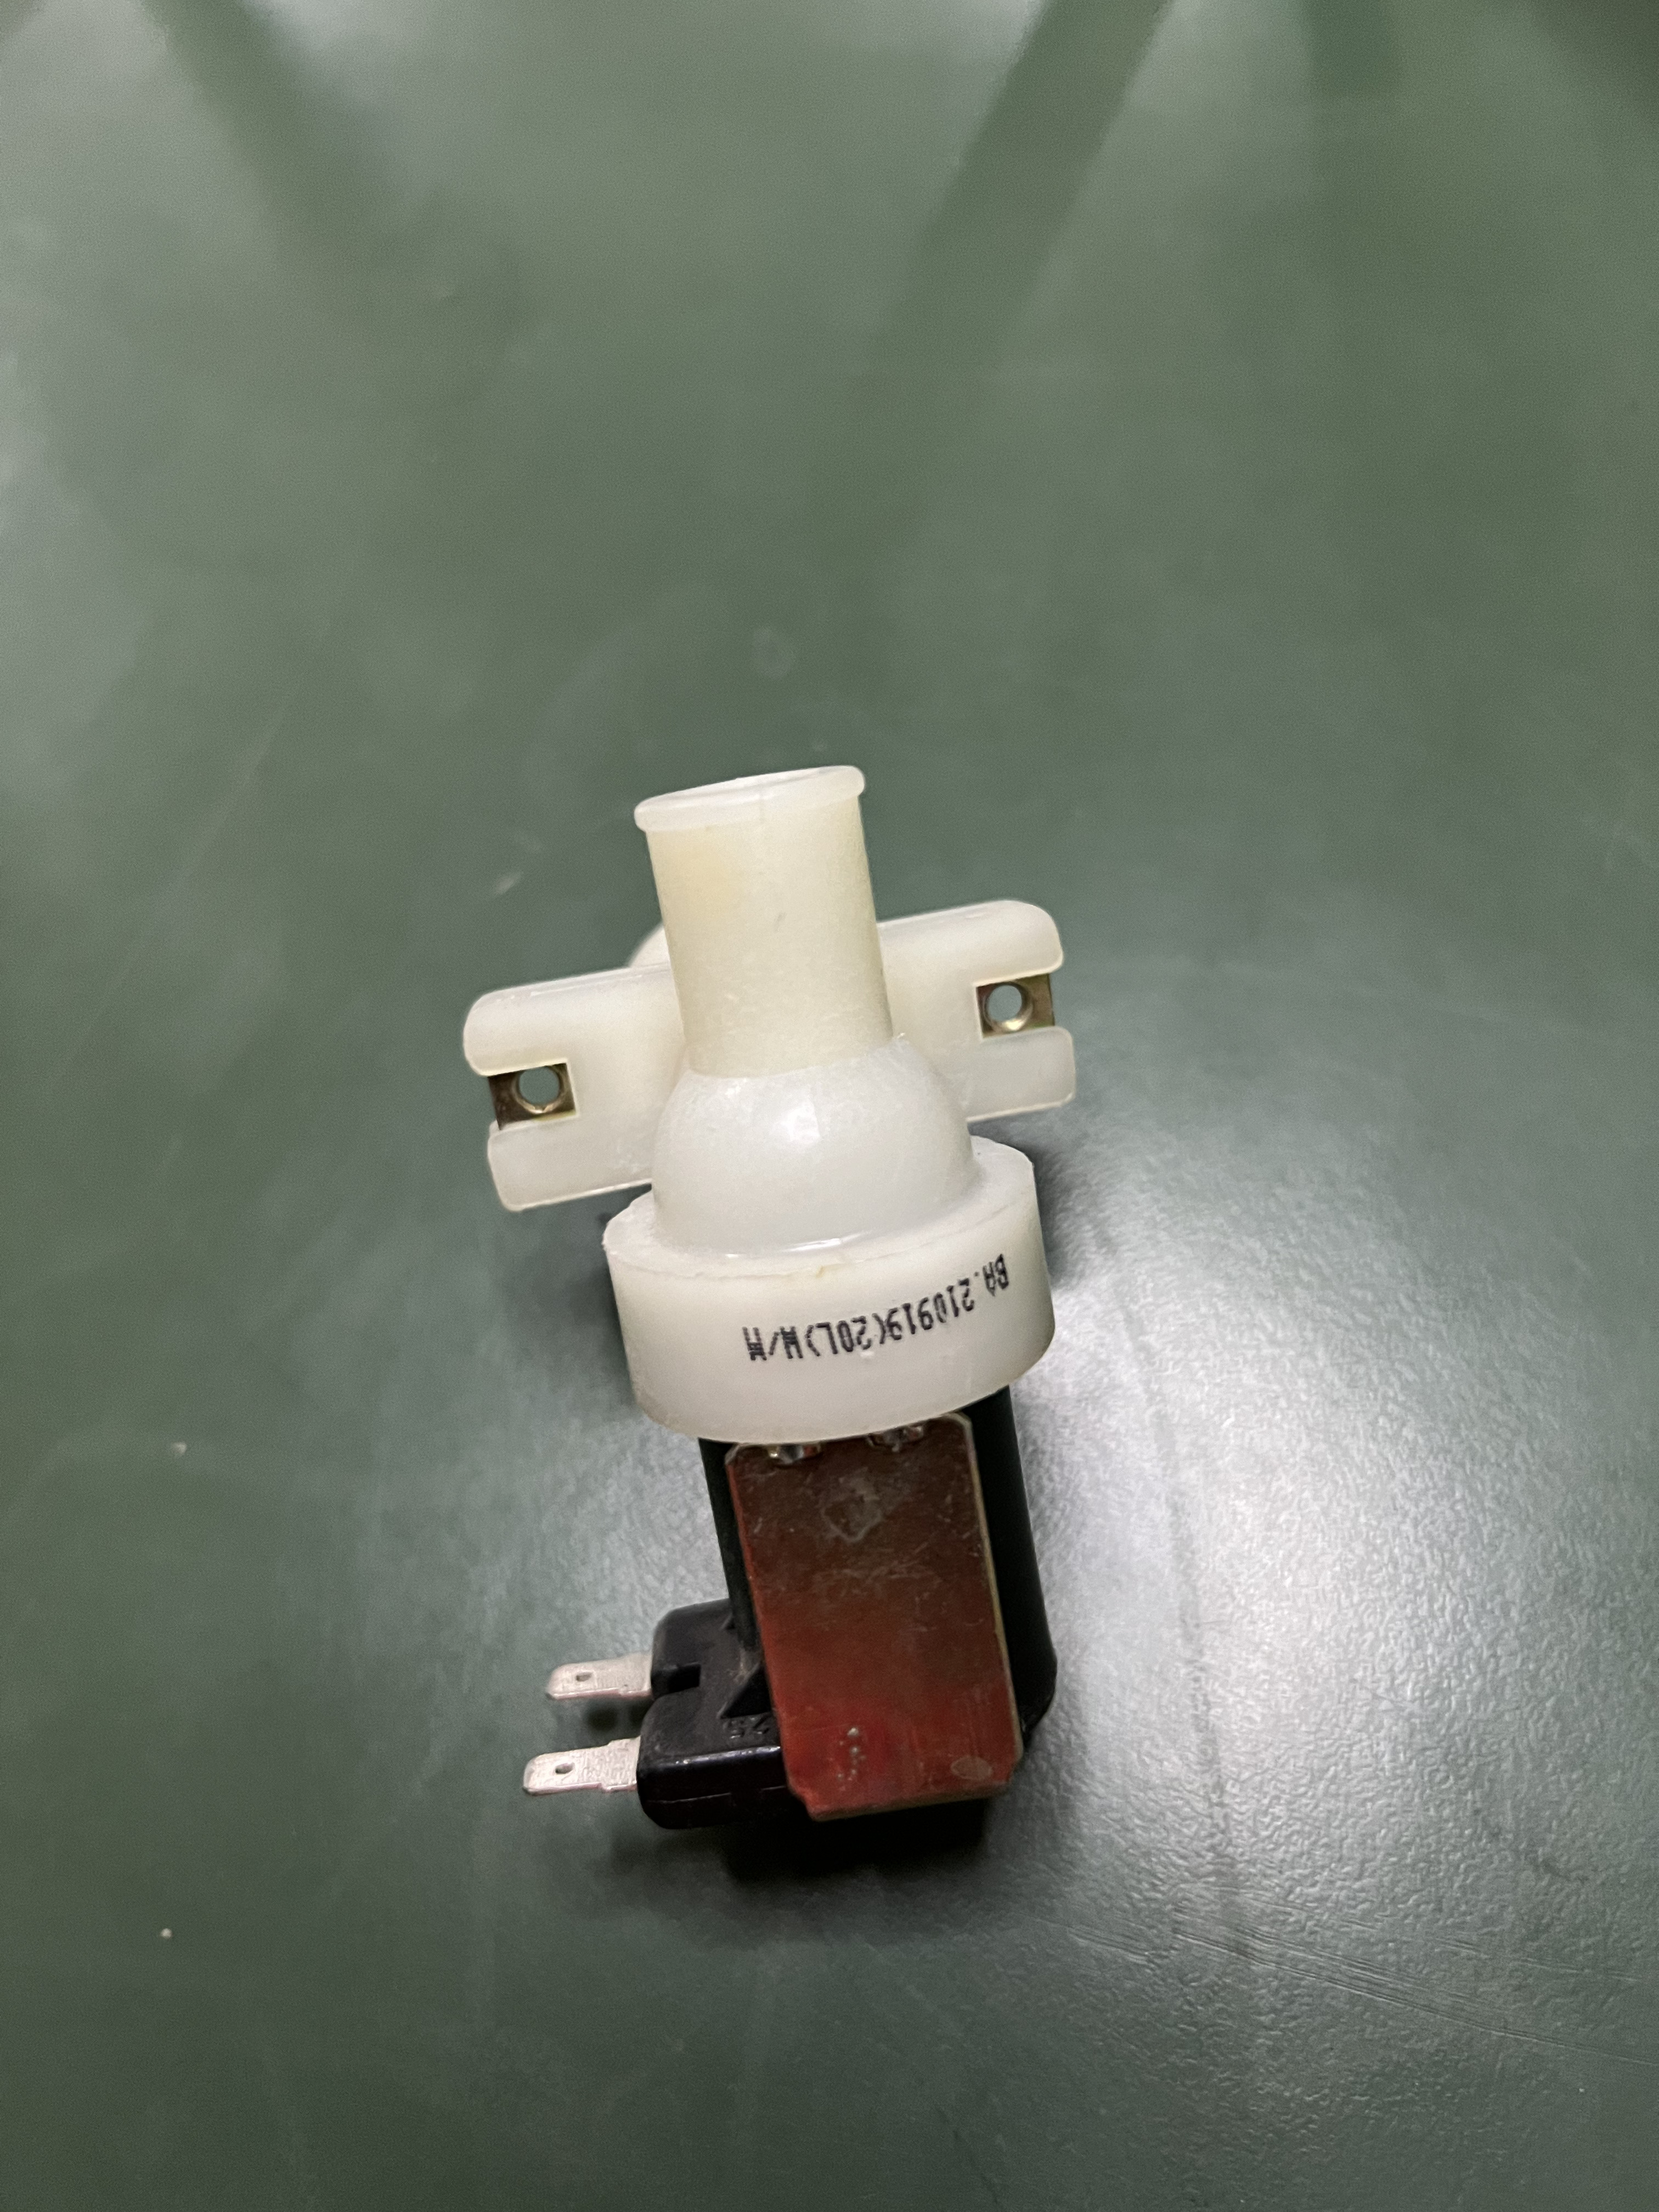godrej_inlet_valves: (443, 770, 1147, 1860)
